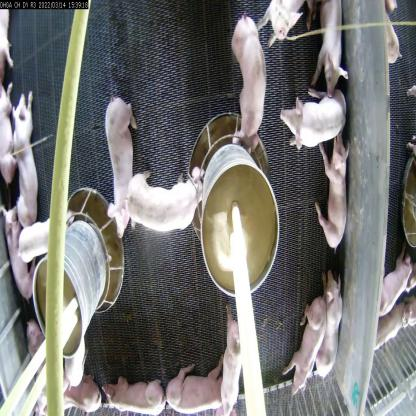Pig: (229, 11, 270, 152), (101, 96, 140, 244), (6, 99, 48, 236), (130, 168, 211, 236), (311, 137, 352, 256), (283, 295, 326, 399), (281, 87, 349, 150), (165, 350, 229, 416), (2, 203, 39, 316), (314, 0, 354, 97), (103, 365, 163, 416), (318, 270, 344, 380), (219, 300, 242, 416), (61, 362, 103, 416), (14, 221, 59, 271), (262, 0, 300, 57)
